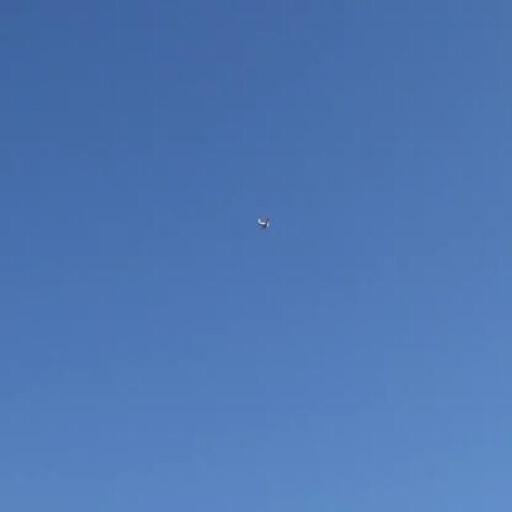aircraft: (258, 217, 272, 230)
